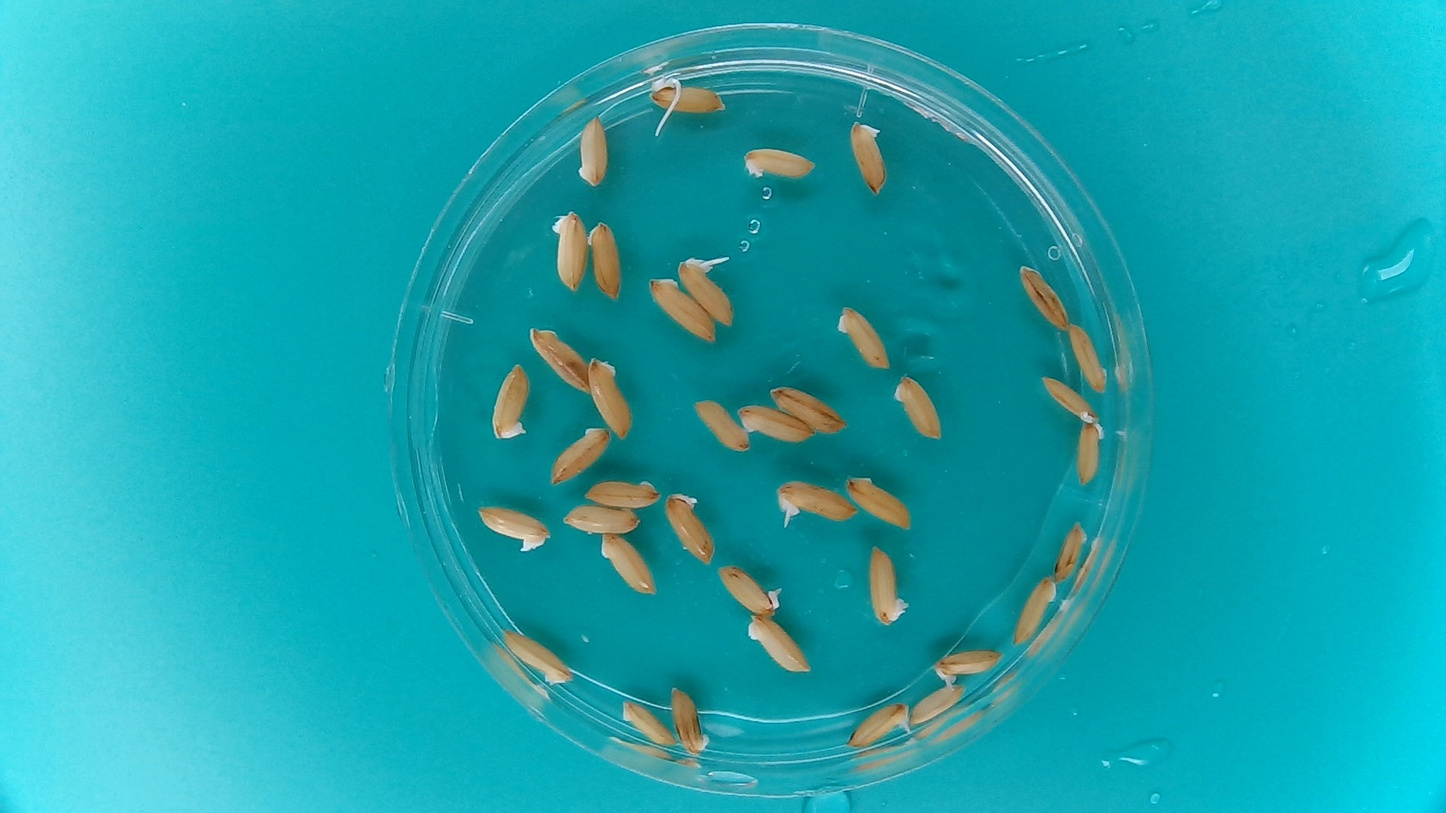no: (648, 277, 715, 342), (768, 386, 847, 436), (502, 630, 573, 685), (746, 614, 810, 675), (529, 326, 589, 391), (847, 473, 914, 528), (587, 358, 633, 436), (476, 506, 552, 552), (601, 532, 655, 596), (868, 543, 909, 626), (836, 306, 889, 370), (1017, 265, 1068, 330), (931, 649, 1008, 692), (718, 565, 783, 615), (550, 428, 609, 483), (665, 494, 712, 563), (893, 374, 941, 440), (1011, 578, 1057, 645), (845, 702, 911, 747), (850, 120, 889, 196), (1040, 373, 1100, 422), (738, 405, 815, 443), (490, 364, 529, 439), (694, 398, 749, 451), (551, 211, 587, 290), (621, 699, 676, 747), (673, 685, 709, 757), (587, 221, 621, 297), (1069, 323, 1107, 391), (576, 112, 609, 188), (908, 684, 966, 726), (563, 504, 642, 534), (584, 480, 660, 509), (743, 149, 815, 179), (1054, 522, 1088, 579), (1076, 422, 1106, 486)
yes: (776, 480, 856, 527), (679, 260, 732, 327), (650, 79, 724, 114)
